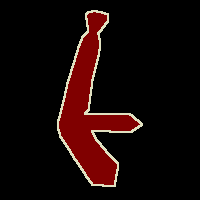tie: (58, 11, 142, 186)
